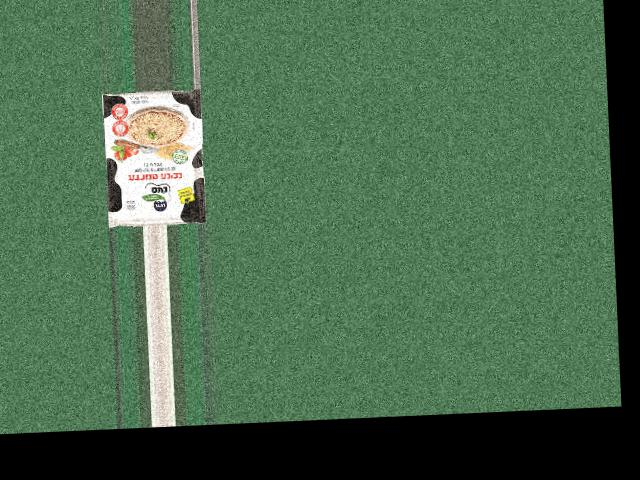cheese: (85, 95, 208, 218)
